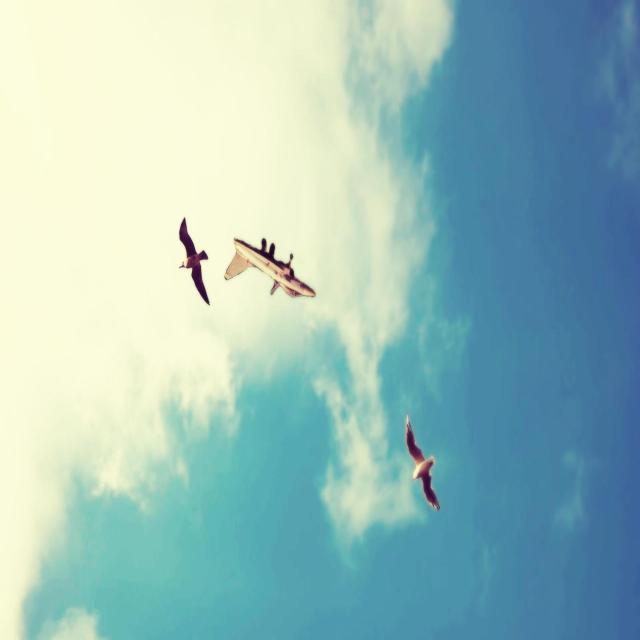airplane: (224, 235, 316, 298)
